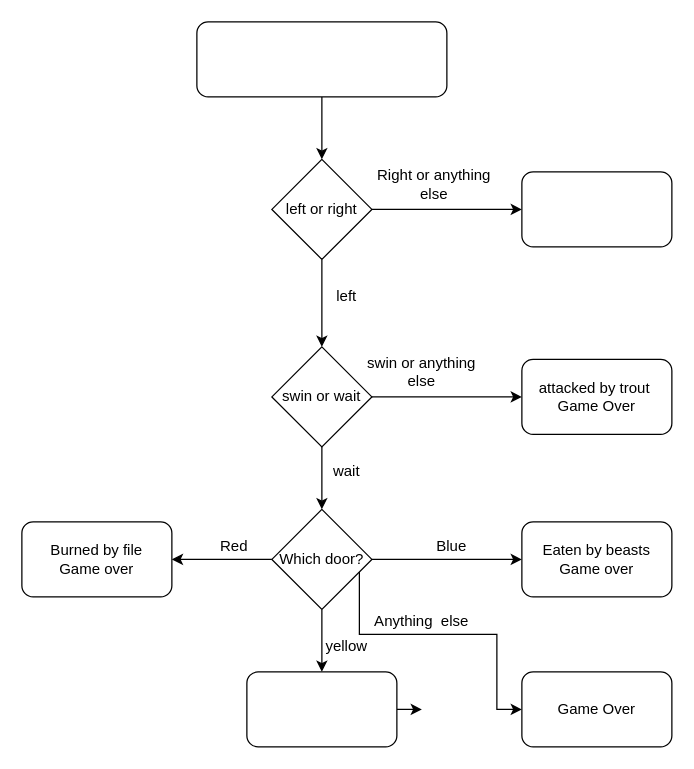
The diagram is 694 pixels wide and 769 high, and some of its shapes have lost their labels. Each missing label, with the centre of its shape:
fall into a hole Game over: (596,209)
welcome to treasure island your misson is to find the treasure: (321,59)
You win !: (321,709)
